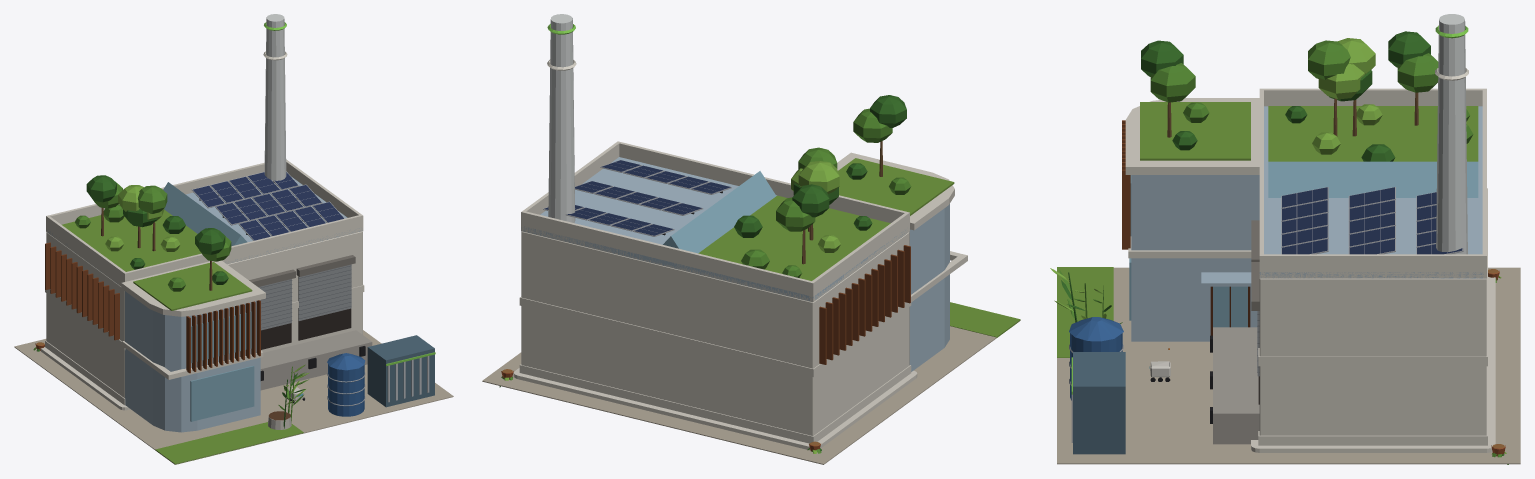
File: factory_3.glb
The picture shows the model from 3 angles, left to right: view 1: azimuth 30°, elevation 25°; view 2: azimuth 150°, elevation 25°; view 3: azimuth 270°, elevation 25°; orthographic projection. The views are drawn at different scales.
Parts seen in each view (by area): view 1: body, windows; view 2: body; view 3: body.
Part boxes in pixels (bbox=[...]): body: bbox=[14, 14, 453, 464]; windows: bbox=[261, 22, 435, 396]; body: bbox=[482, 14, 1020, 464]; body: bbox=[1050, 14, 1520, 464].
Size of the model in its own units: 15.9 by 16.05 by 16.16.
